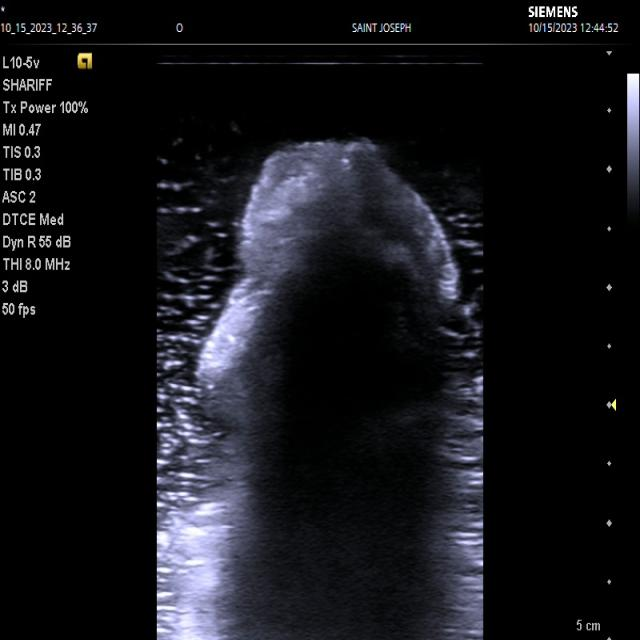tissue: (197, 140, 459, 640)
